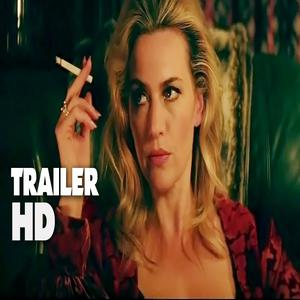cigarette: (55, 54, 95, 83)
